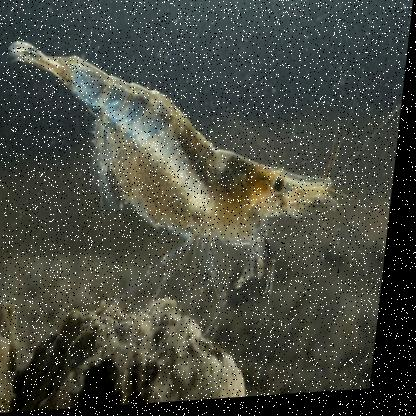shrimp: (0, 21, 360, 312)
